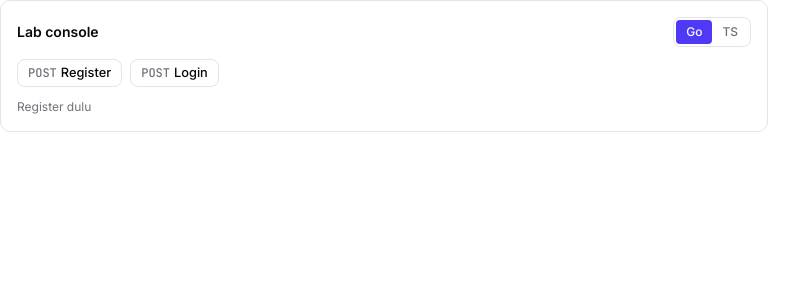
Test: LabConsole › {{randomEmail}} makes a fresh learner address per send and {{email}} reuses the last one
This screenshot has width=785, height=283.
Later steps or results of the test are not shown.
Expected: the text "Register dulu" is shown, [17,99,91,114]
Click the button "POST Login". click: (174, 73)
box: [130,59,219,87]
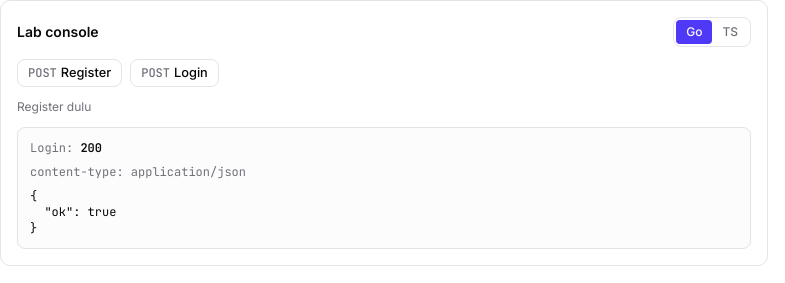
Click the button "POST Register". click: (70, 73)
box: [17,59,122,87]
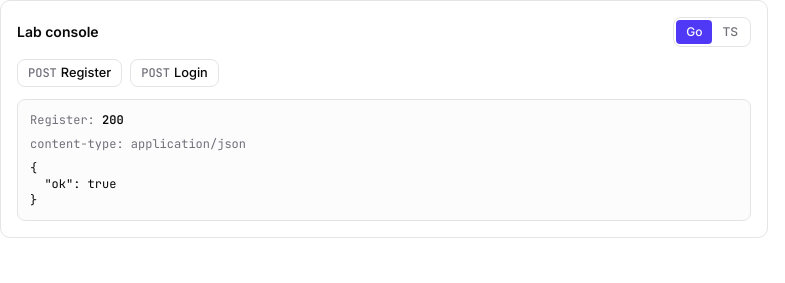
Result: the text "Register dulu" is gone
